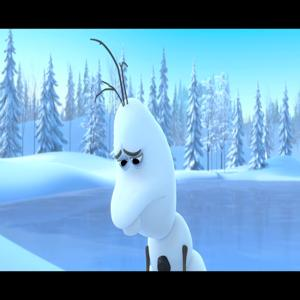olaf: (91, 36, 213, 266)
